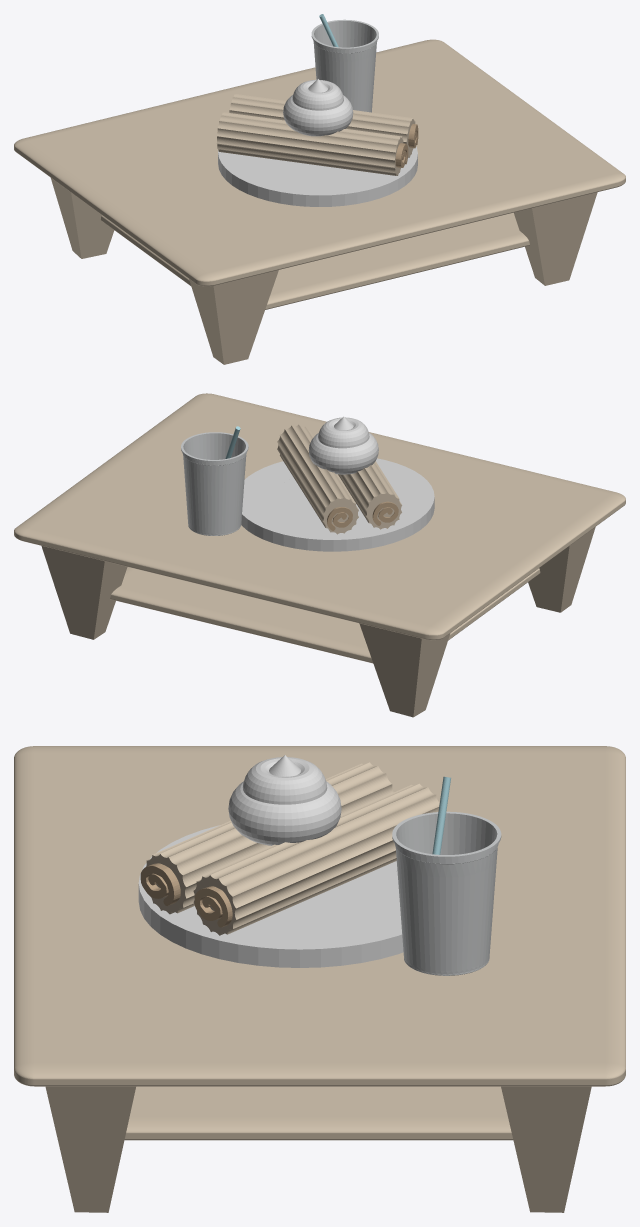
Rendered from Reaghan - Churros.glb.
3 views of the same model, one above another, from view 1: azimuth 30°, elevation 25°; view 2: azimuth 150°, elevation 25°; view 3: azimuth 270°, elevation 25° (orthographic). The views are drawn at different scales.
Visible parts, largest first — view 1: Mesh_Mesh_head_geo.001_lambert2SG.001; view 2: Mesh_Mesh_head_geo.001_lambert2SG.001; view 3: Mesh_Mesh_head_geo.001_lambert2SG.001.
Boxes of the visible parts, x1,y1,x2,y2 form: Mesh_Mesh_head_geo.001_lambert2SG.001: (14,14,625,364); Mesh_Mesh_head_geo.001_lambert2SG.001: (14,393,625,717); Mesh_Mesh_head_geo.001_lambert2SG.001: (14,746,625,1212).
Size of the model in its own units: 0.104 by 0.049 by 0.081.
